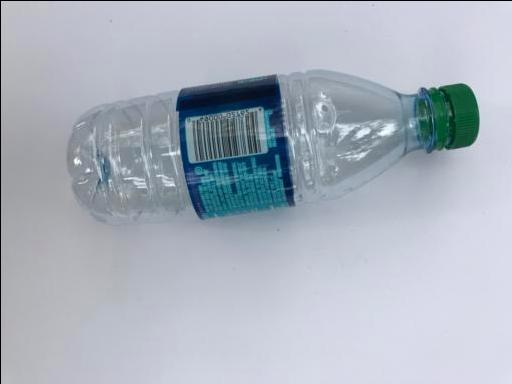PET: (66, 67, 480, 224)
dasani: (66, 67, 480, 224)
plastic: (66, 67, 480, 224)
water: (66, 67, 480, 224)
